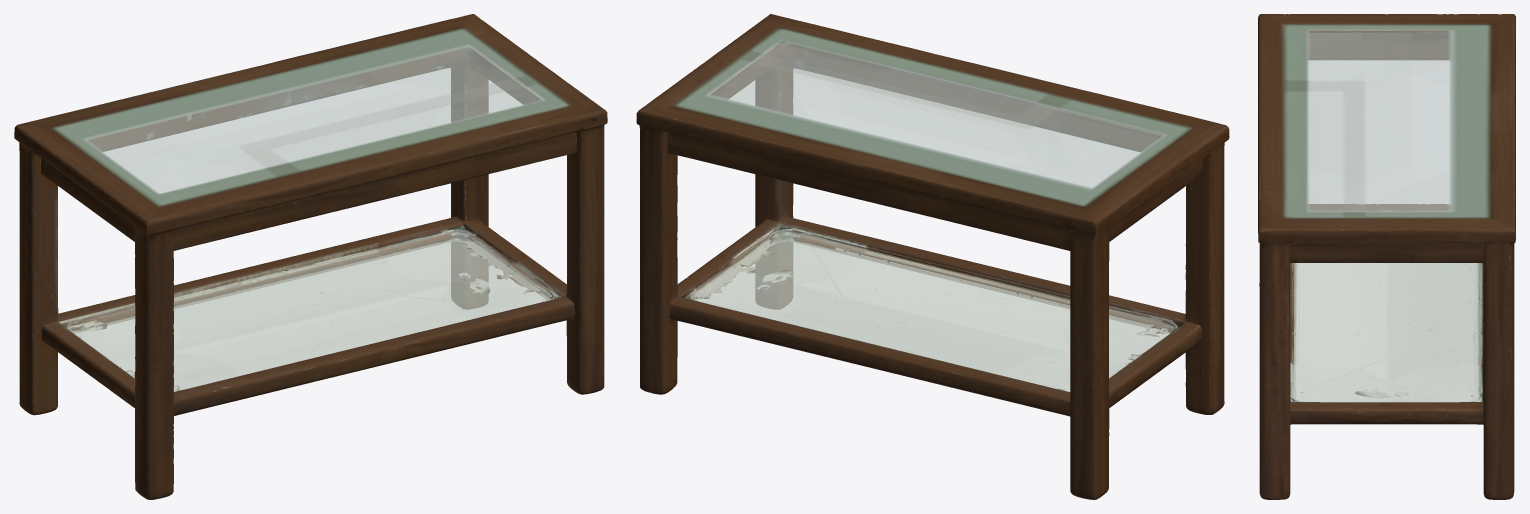
The model's file is item_ea05ab0d.glb.
The picture shows the model from 3 angles, left to right: view 1: azimuth 30°, elevation 25°; view 2: azimuth 150°, elevation 25°; view 3: azimuth 270°, elevation 25°; orthographic projection. The views are drawn at different scales.
Parts seen in each view (by area): view 1: geometry_0; view 2: geometry_0; view 3: geometry_0.
Part boxes in pixels (bbox=[...]): geometry_0: bbox=[14, 14, 607, 499]; geometry_0: bbox=[636, 14, 1229, 499]; geometry_0: bbox=[1258, 14, 1515, 499].
Size of the model in its own units: 1.2 by 0.7045 by 0.6024.
Materials: 1 (1 with a texture image).
